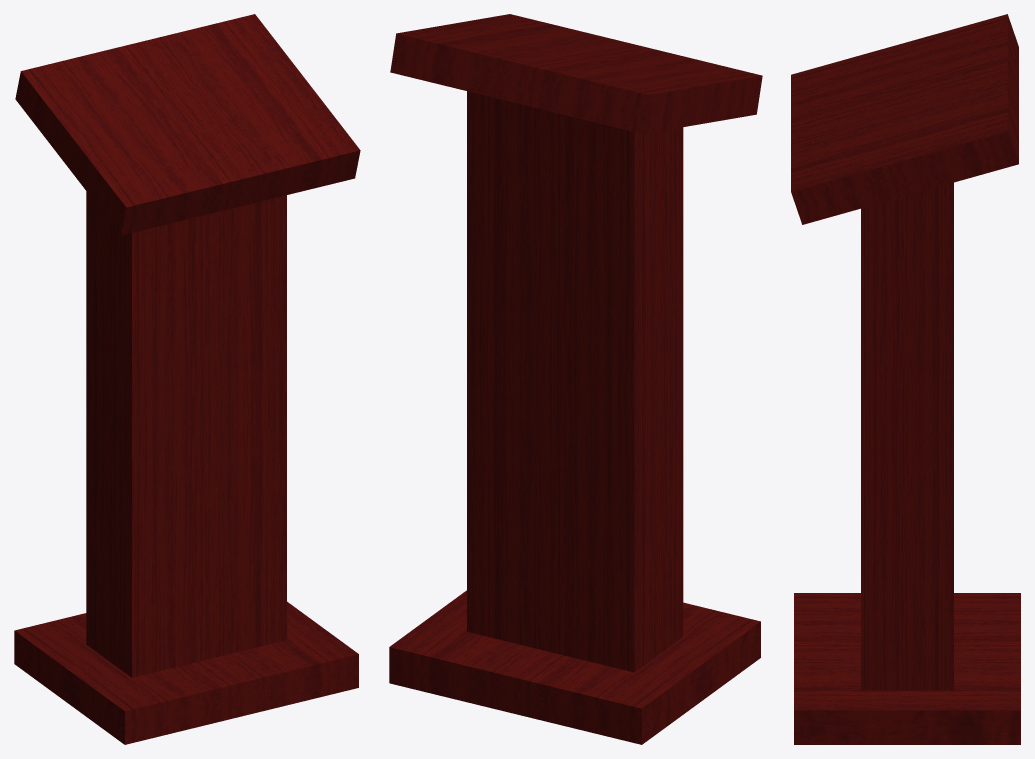
Rendered from pedestal.fbx.
The picture shows the model from 3 angles, left to right: view 1: azimuth 30°, elevation 25°; view 2: azimuth 150°, elevation 25°; view 3: azimuth 270°, elevation 25°; orthographic projection. The views are drawn at different scales.
Parts seen in each view (by area): view 1: pedestal_pole, pedestal_stand, pedestal_bae; view 2: pedestal_pole, pedestal_bae, pedestal_stand; view 3: pedestal_pole, pedestal_stand, pedestal_bae.
Boxes of the visible parts, x1,y1,x2,y2 form: pedestal_pole: [86, 191, 286, 677]; pedestal_stand: [15, 14, 360, 235]; pedestal_bae: [14, 601, 358, 744]; pedestal_pole: [467, 91, 683, 672]; pedestal_bae: [389, 590, 760, 744]; pedestal_stand: [390, 14, 762, 133]; pedestal_pole: [861, 182, 953, 690]; pedestal_stand: [791, 14, 1018, 224]; pedestal_bae: [794, 593, 1020, 744].
Bounding box in the file's own units: 0.6899 × 1.68 × 0.5711.
